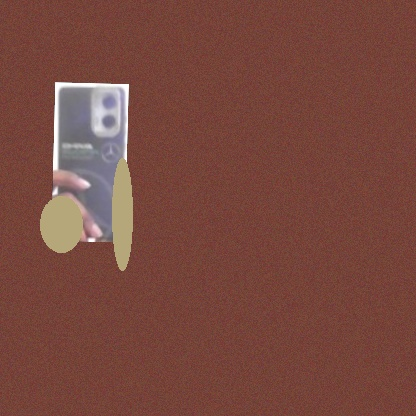cell_phone: (51, 82, 129, 242)
